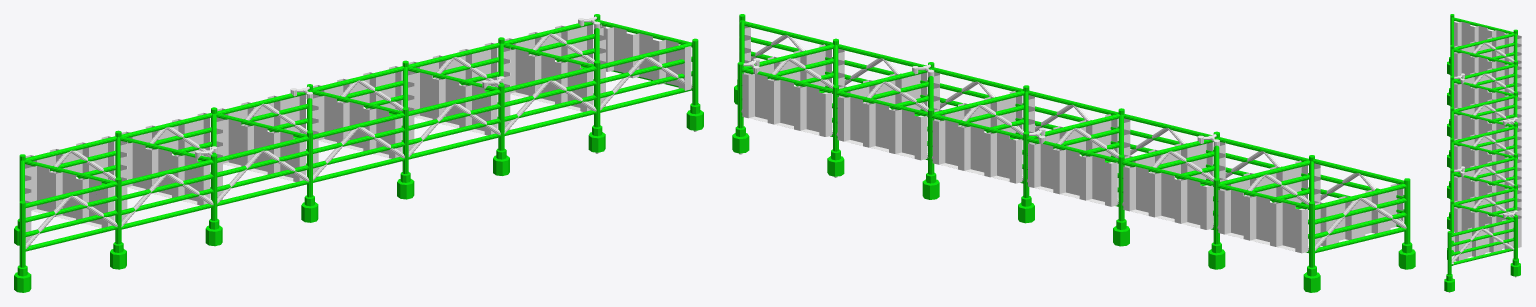
Rendered from 01__Floate_Bratkwater_FLoater_onlu.glb.
The picture shows the model from 3 angles, left to right: view 1: azimuth 30°, elevation 25°; view 2: azimuth 150°, elevation 25°; view 3: azimuth 270°, elevation 25°; orthographic projection. The views are drawn at different scales.
Parts seen in each view (by area): view 1: 3D Solid.126; view 2: 3D Solid.126; view 3: 3D Solid.126.
Boxes of the visible parts, x1,y1,x2,y2 form: 3D Solid.126: (14, 14, 703, 292); 3D Solid.126: (732, 14, 1415, 292); 3D Solid.126: (1444, 14, 1521, 292).
Size of the model in its own units: 248 by 31.56 by 36.51.
